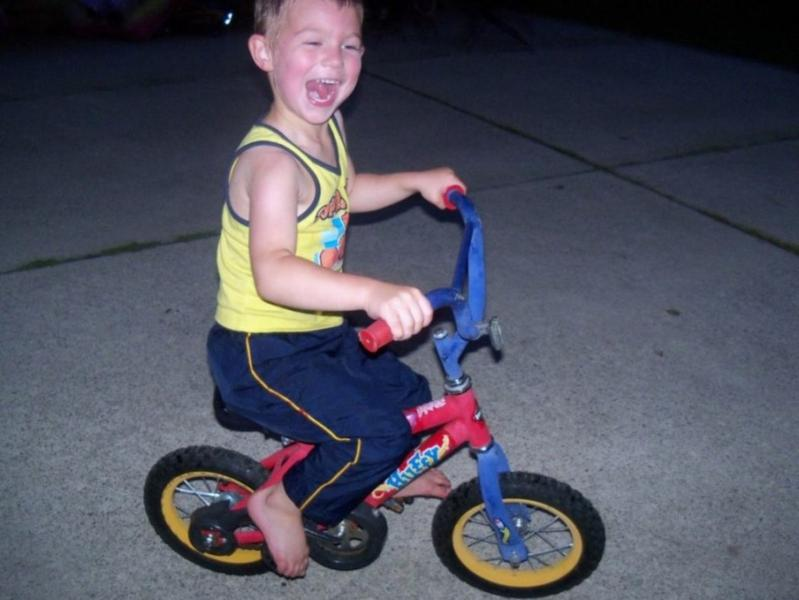person: (212, 7, 469, 579)
